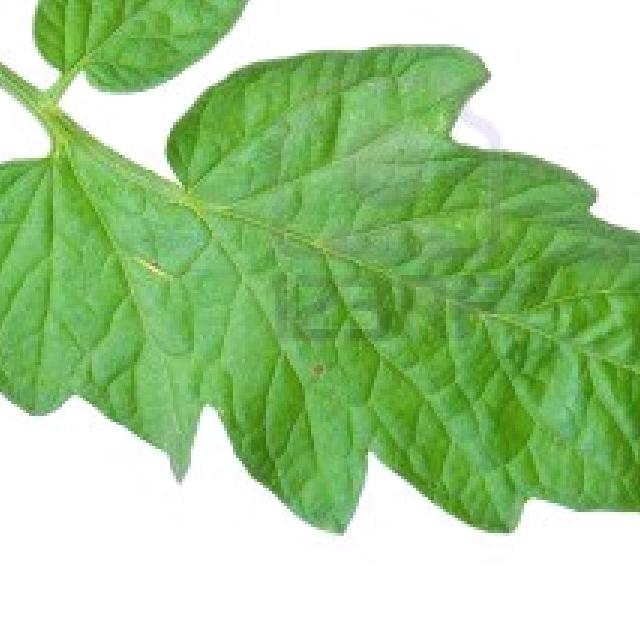Tomato leaf: (0, 40, 640, 577), (30, 0, 349, 94)
